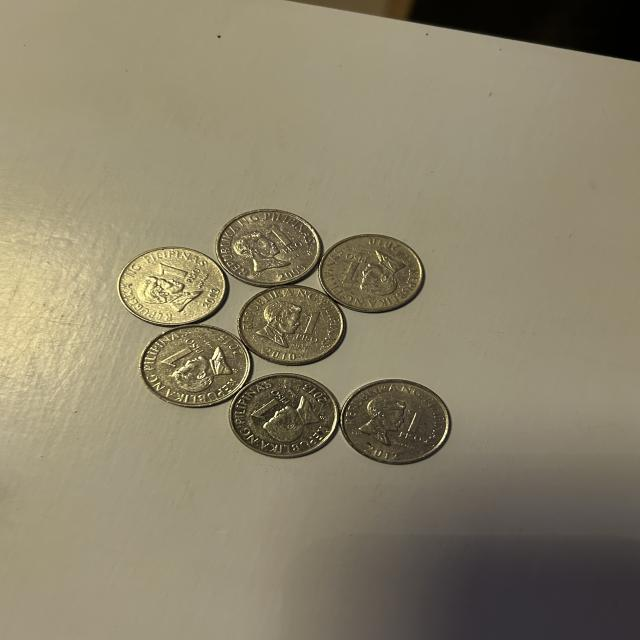1_Old_Front: (256, 220, 301, 260), (248, 391, 296, 428), (152, 260, 208, 290), (159, 339, 217, 367), (400, 406, 436, 448), (291, 310, 320, 352), (334, 250, 368, 285)
